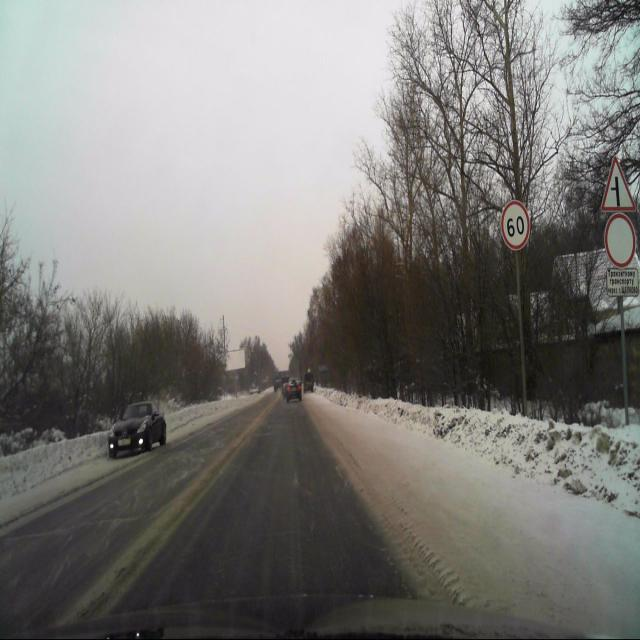road sign: (602, 153, 634, 212)
